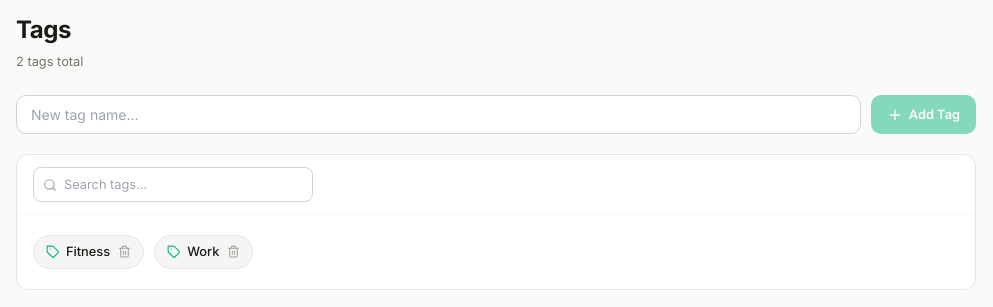
Tags page › filters tags by search
Check: the text "Fitness" is shown, box [66,242,110,262]
In the field with placeholder "Search tags…": (173, 185) [33,167,313,202], type "fit"
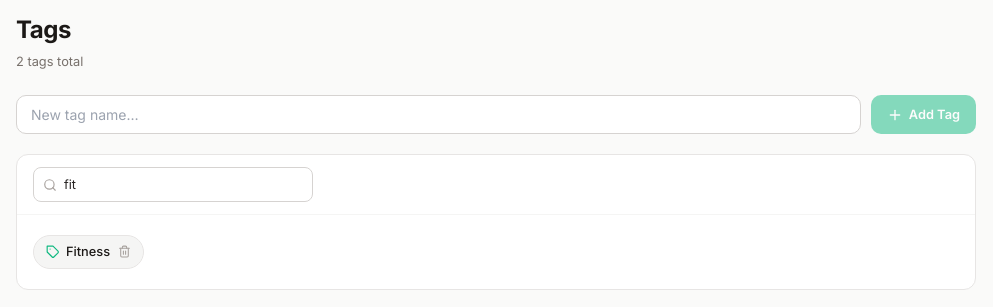
Check: the text "Fitness" is shown, box [66,242,110,262]
Check: the text "Work" is gone
